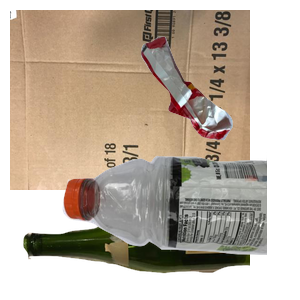cardboard: (10, 10, 250, 190)
glass: (21, 201, 261, 300)
plastic: (60, 152, 300, 300)
trash: (139, 34, 300, 167)
